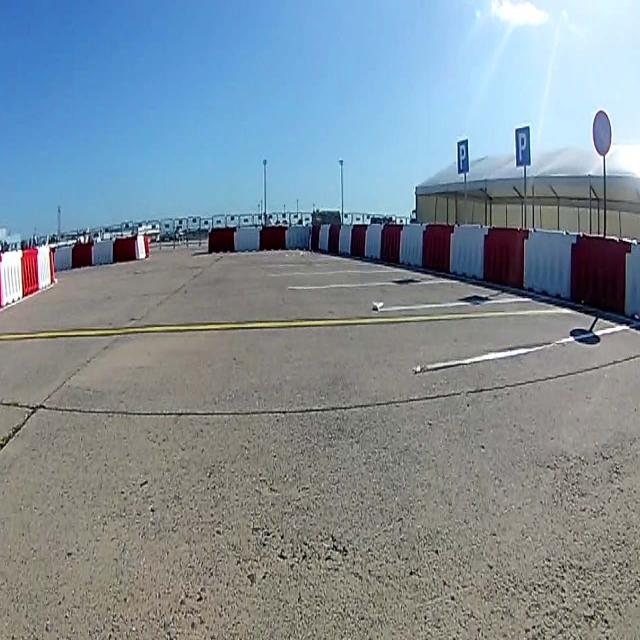park: (513, 125, 531, 167), (456, 138, 470, 176)
parkyasak: (592, 110, 612, 156)
